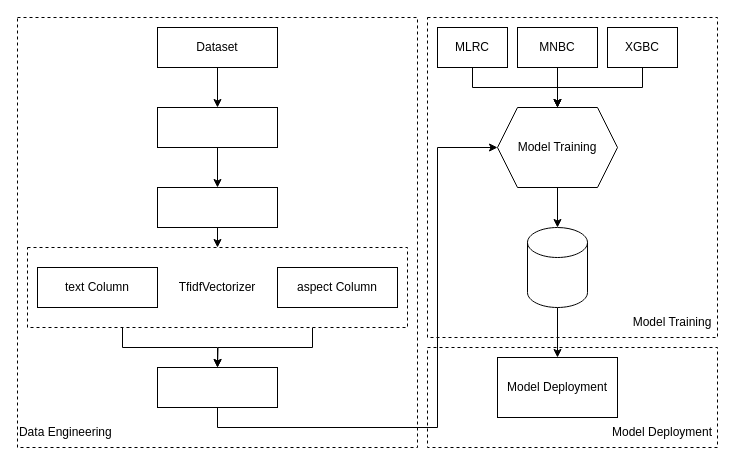
This 735x465 diagram has some shape labels left out. The shapes that lost their labels are listed below. From the top down, each one's centre as x and y in pixels, then its label:
[217,127]: Data Analysis
[217,207]: Data Preprocessing
[557,267]: Best Trained Model
[217,387]: Single Feature Array
